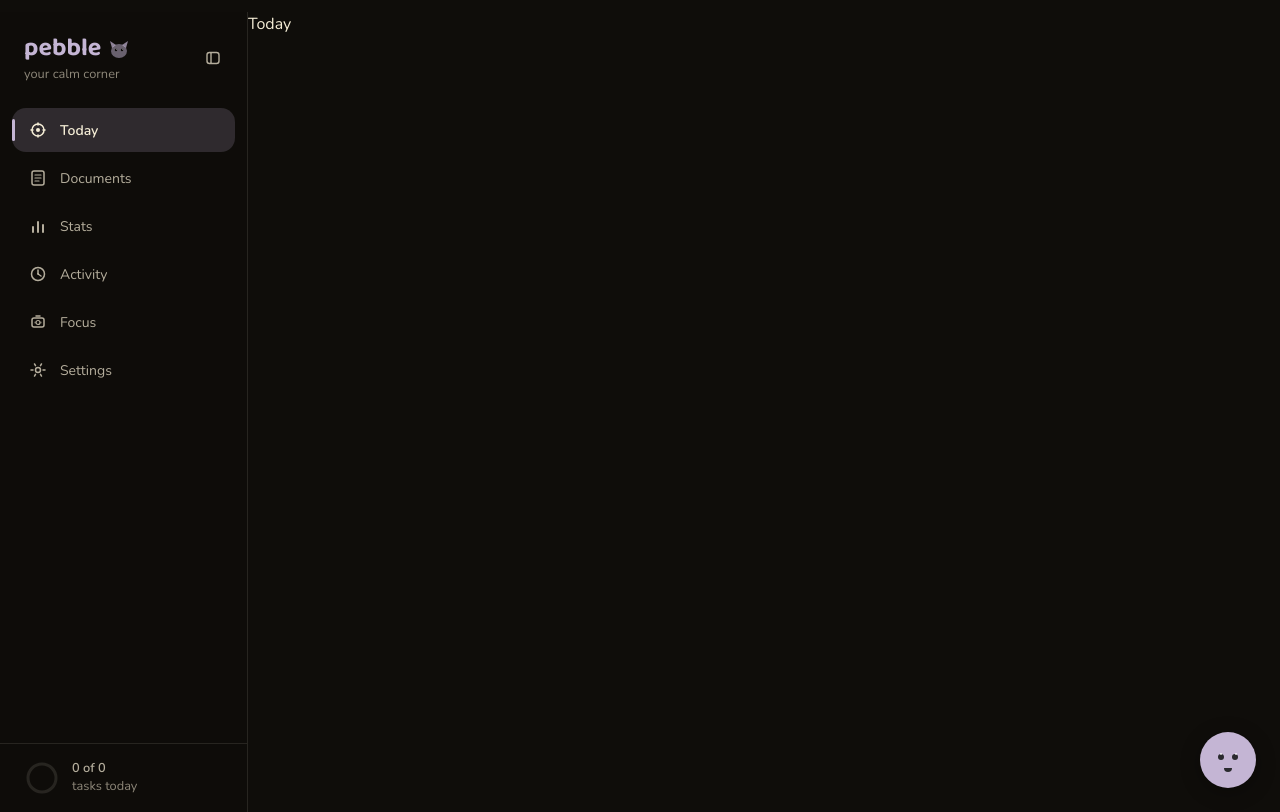
Scenario: AppShell navigation › collapses the sidebar to icons and back, keeping every link named
The width and height of the screenshot is (1280, 812).
What coordinates should you click on to do the following:
click the button named "Collapse navigation"
I would click on:
 (213, 58)
Its box is [191, 36, 235, 80].
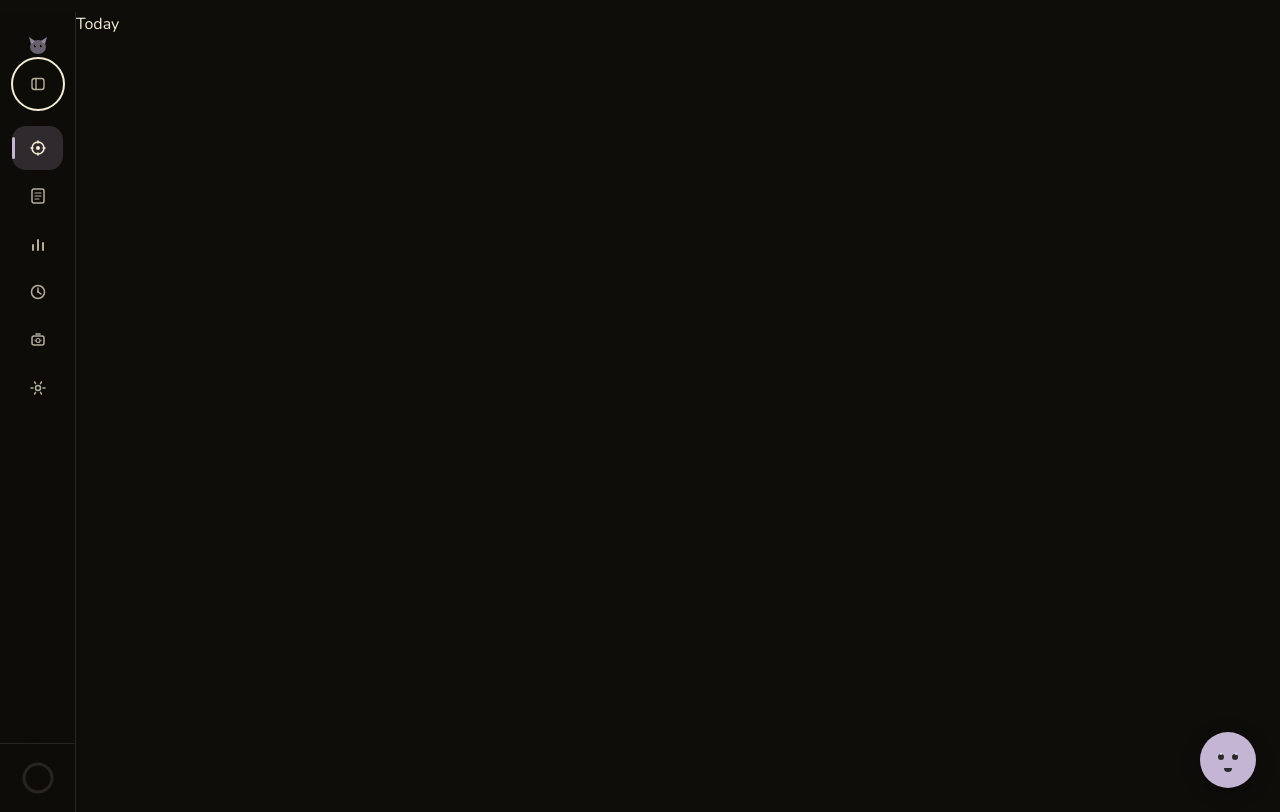
Expected: the 1st link named "Today" is shown, [12, 126, 63, 170]
Expected: the button named "Expand navigation" is collapsed
What coordinates should you click on to do the following:
click the button named "Expand navigation"
I would click on:
 (38, 84)
Its box is [16, 62, 60, 106].
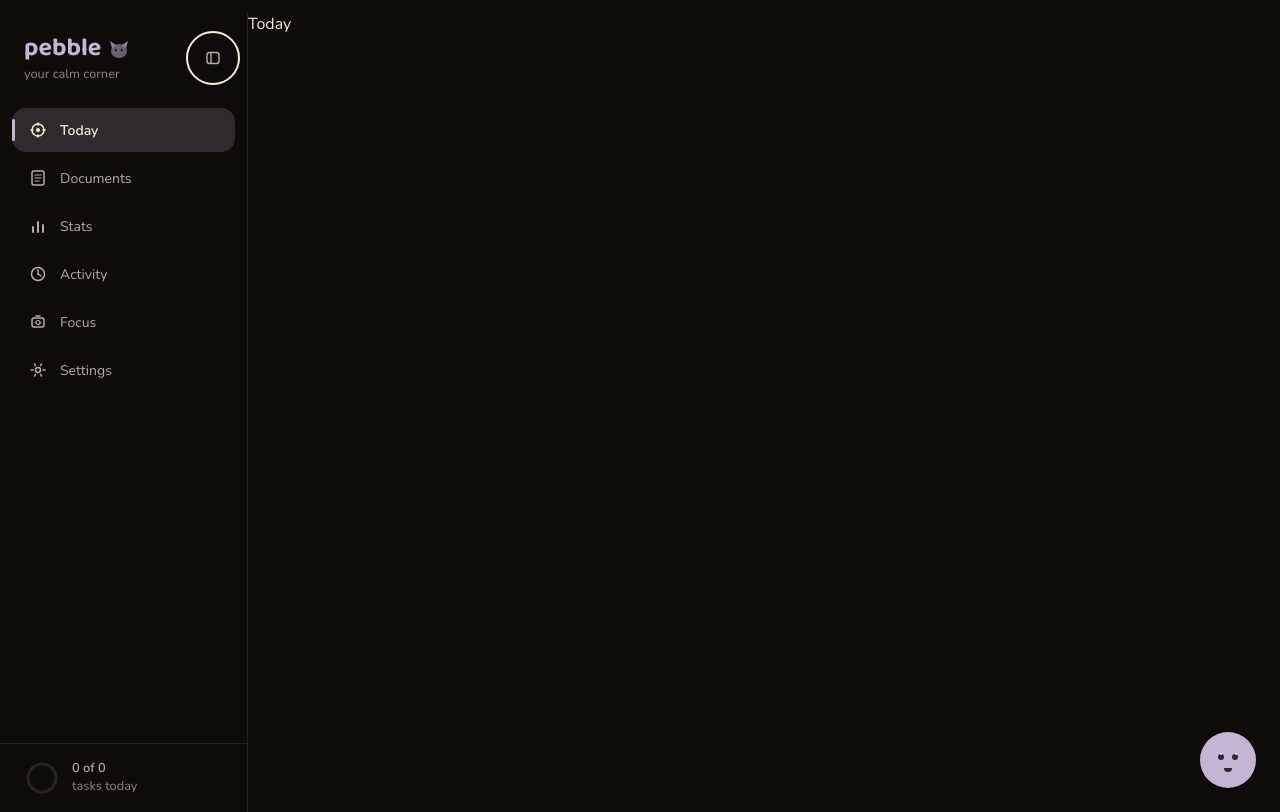
Expected: the element with class "sidebar" does not have attribute data-collapsed, [0, 12, 248, 811]
